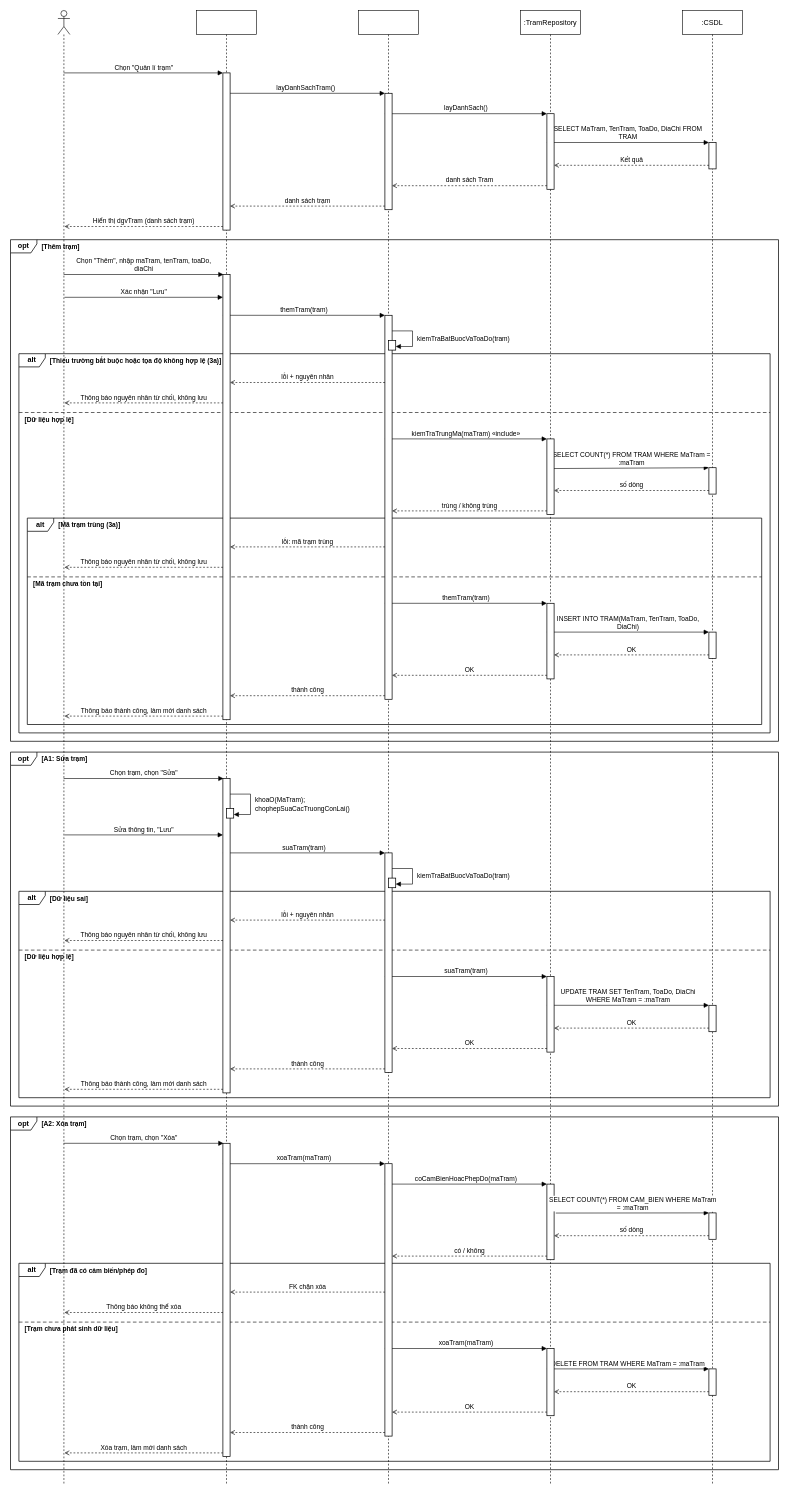
This 790x1495 diagram has some shape labels left out. Here are the shapes that lost their labels. From the top down, the box of each, then its label:
(57, 10, 70, 1484): :Quản lí
(196, 10, 256, 1484): :FrmTram
(358, 10, 418, 1484): :TramService
